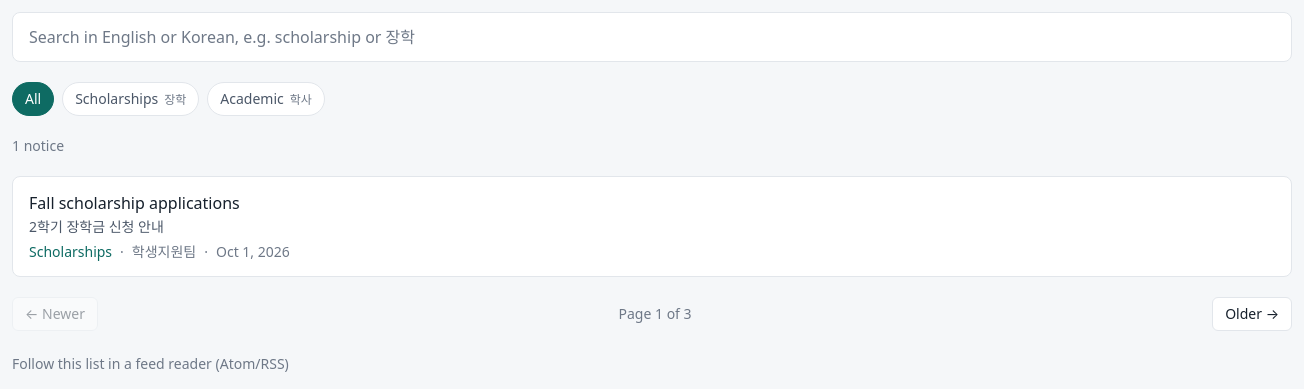
Scenario: NoticeListPage › pages through results
What coordinates should you click on to do the following:
click the button "Older →"
I would click on:
 (1252, 314)
Its box is [1212,297,1292,331].
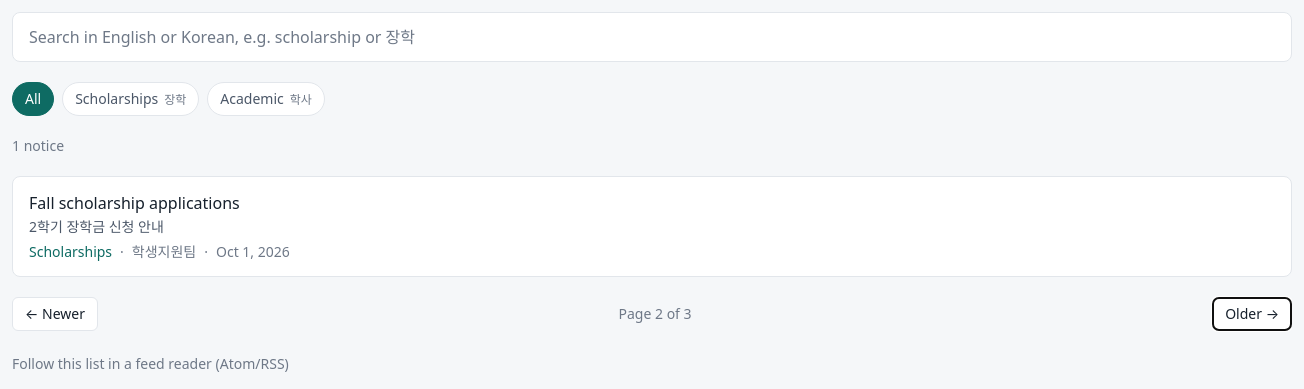
Check: the text "Page 2 of 3" is shown, box [618,304,692,324]
Check: the button "← Newer" is enabled, box [12,297,98,331]
